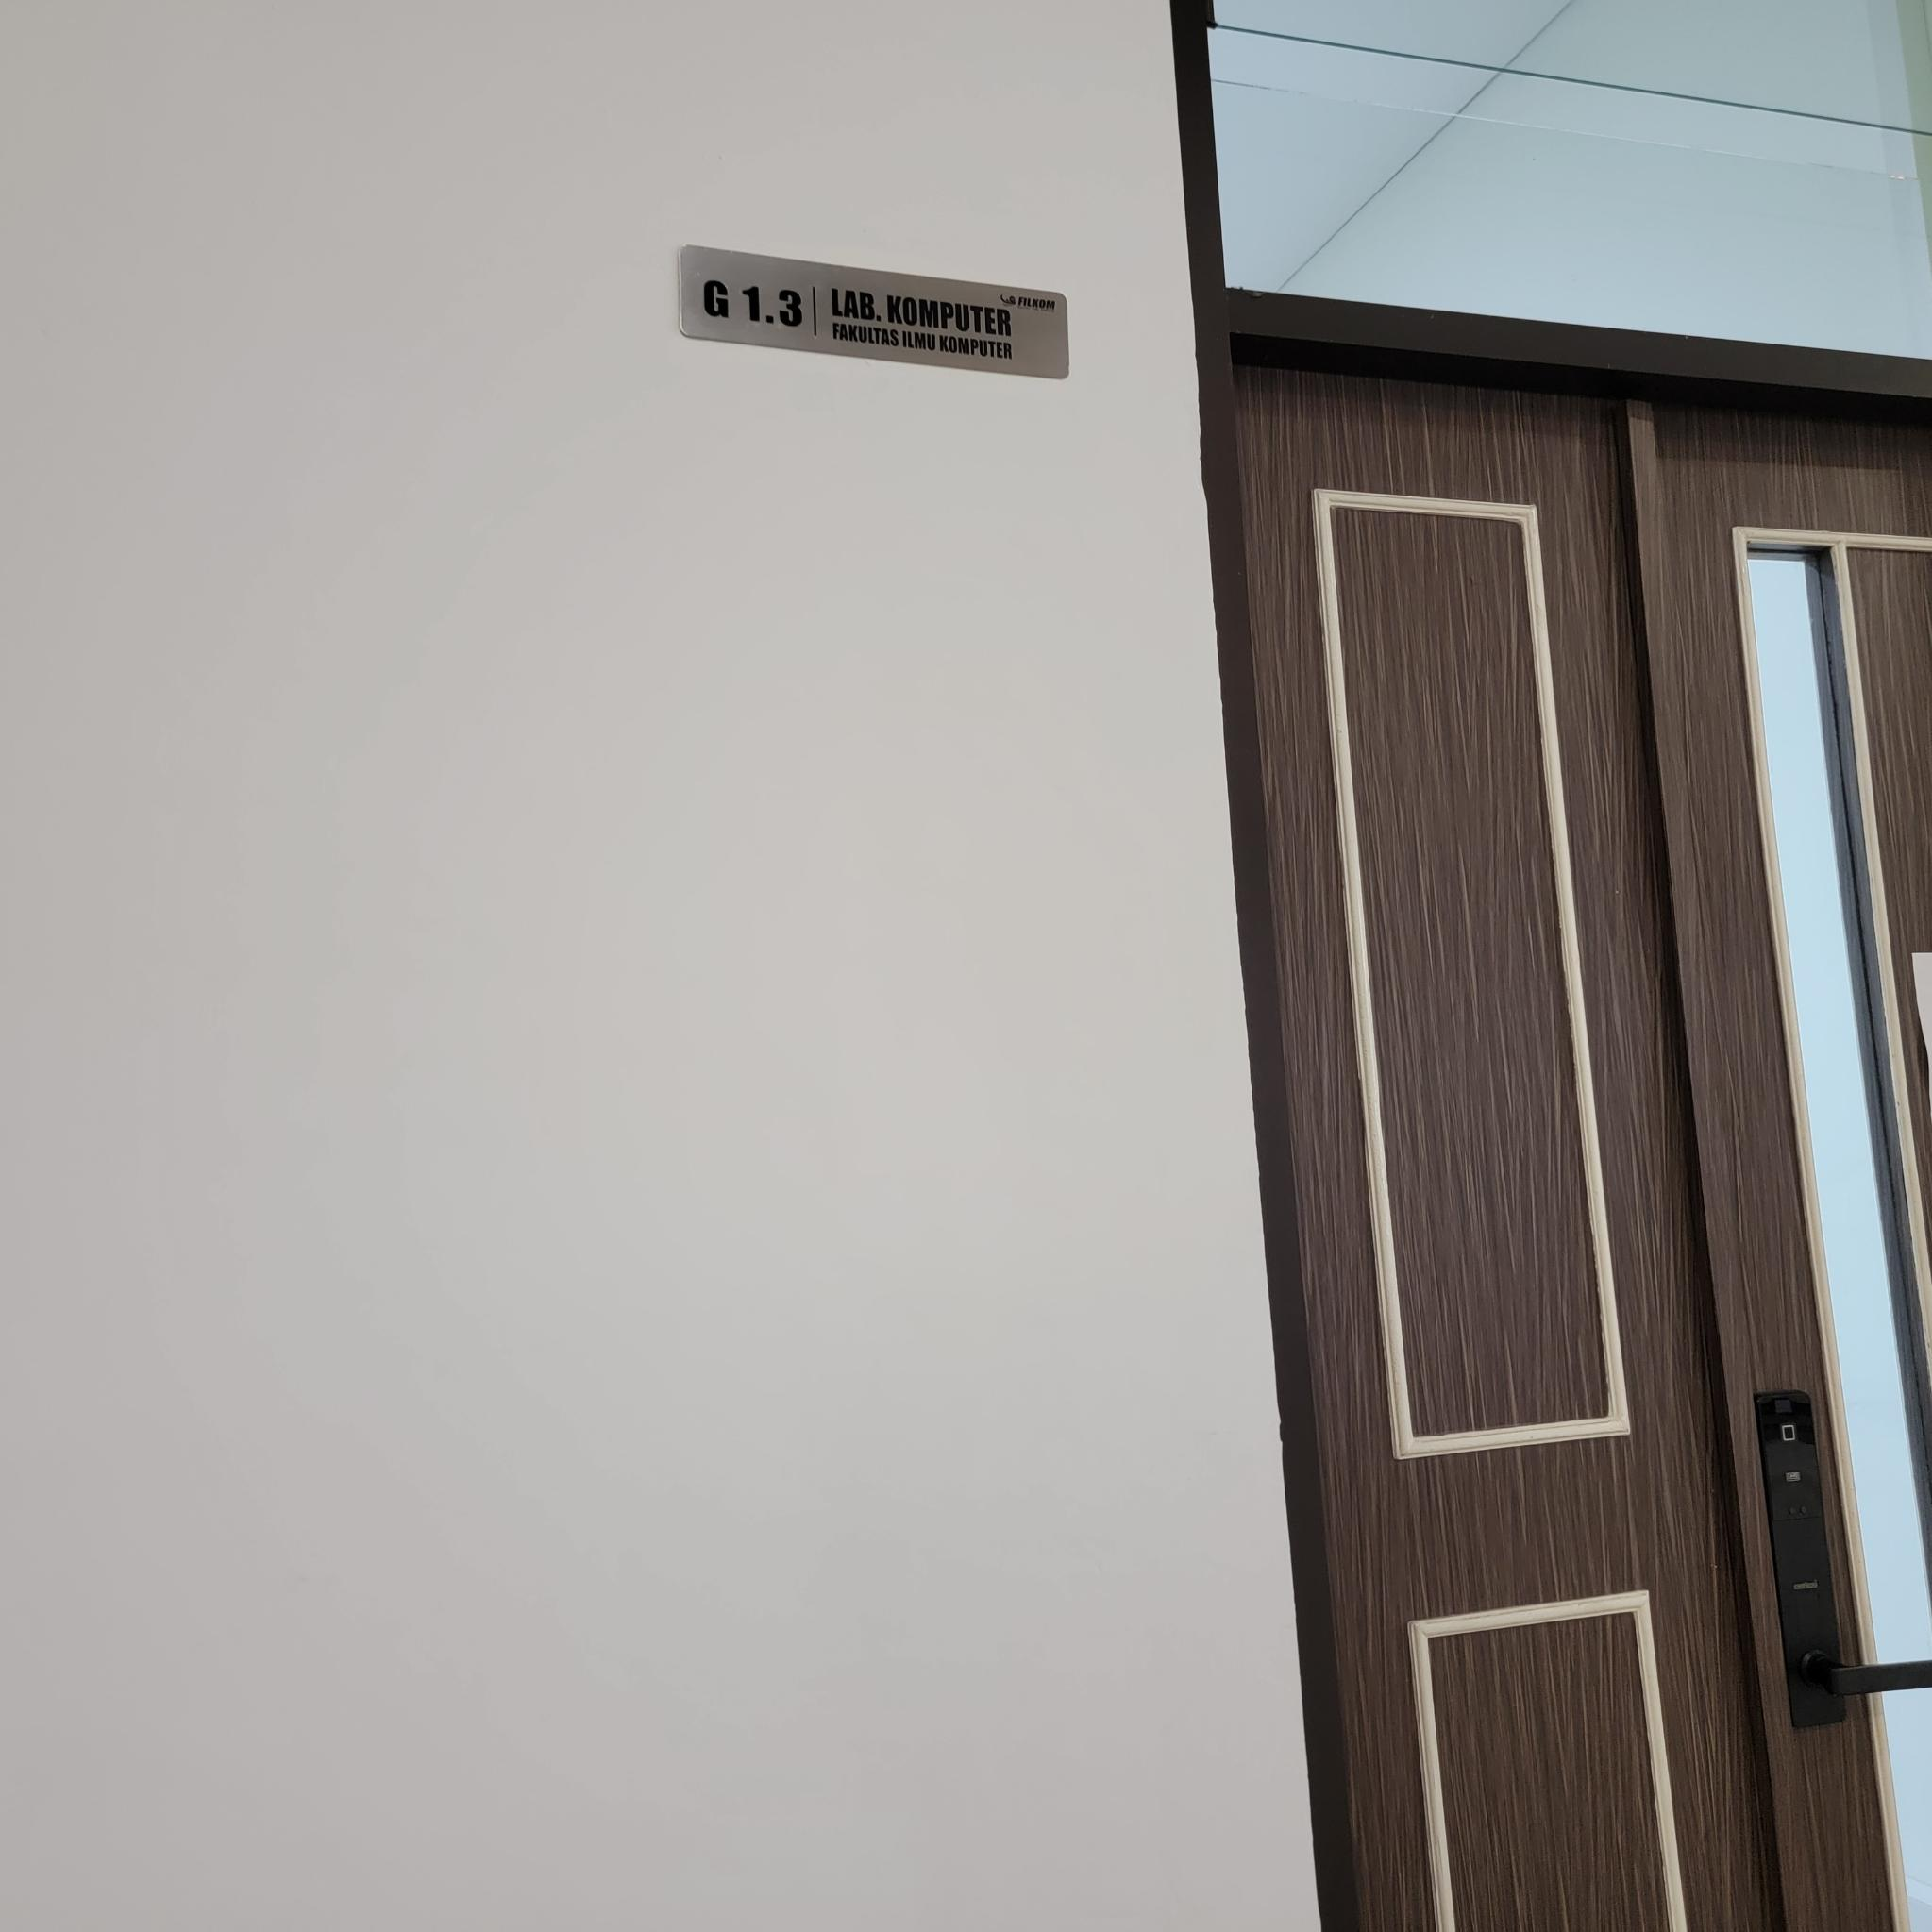plate: (679, 242, 1069, 382)
